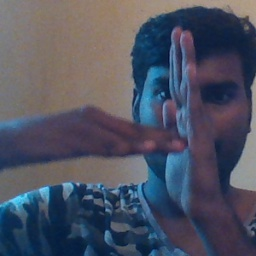Z: (94, 27, 221, 203)
